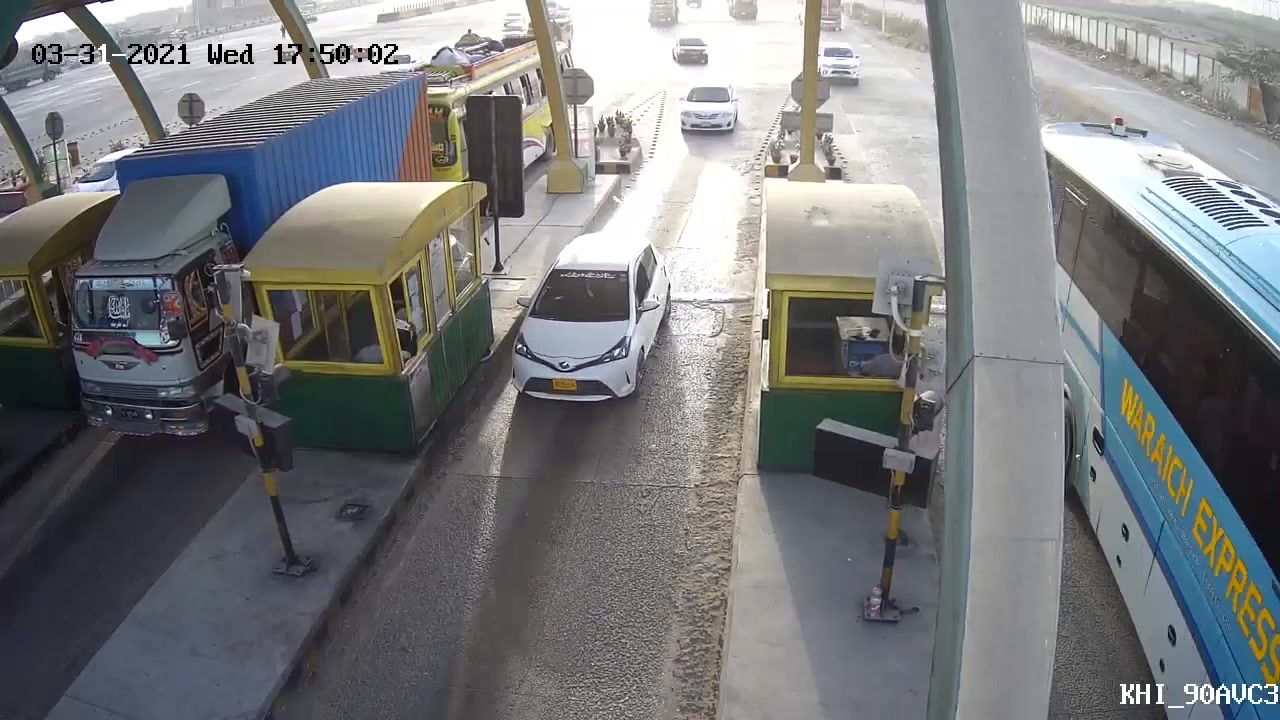F1: (496, 229, 683, 414), (672, 78, 739, 137)
